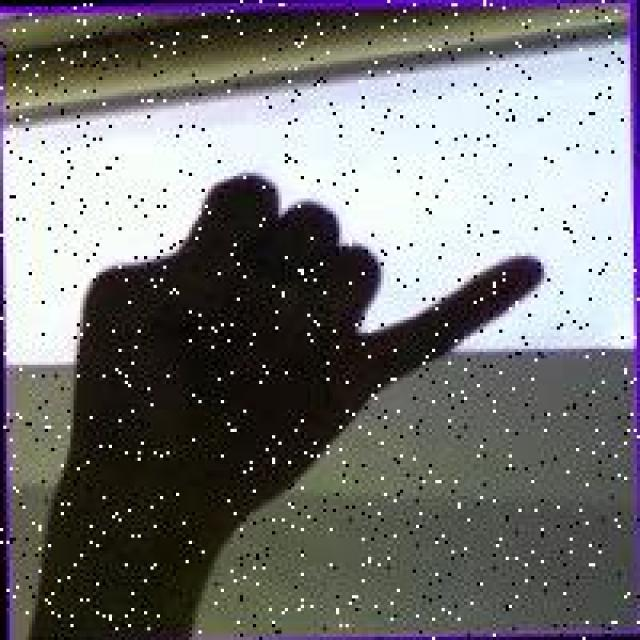J: (36, 163, 562, 506)
